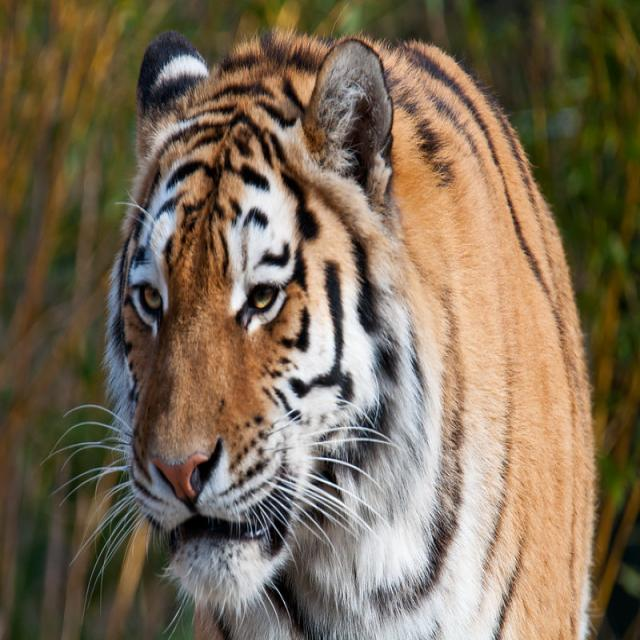Tiger: (94, 15, 596, 636)
